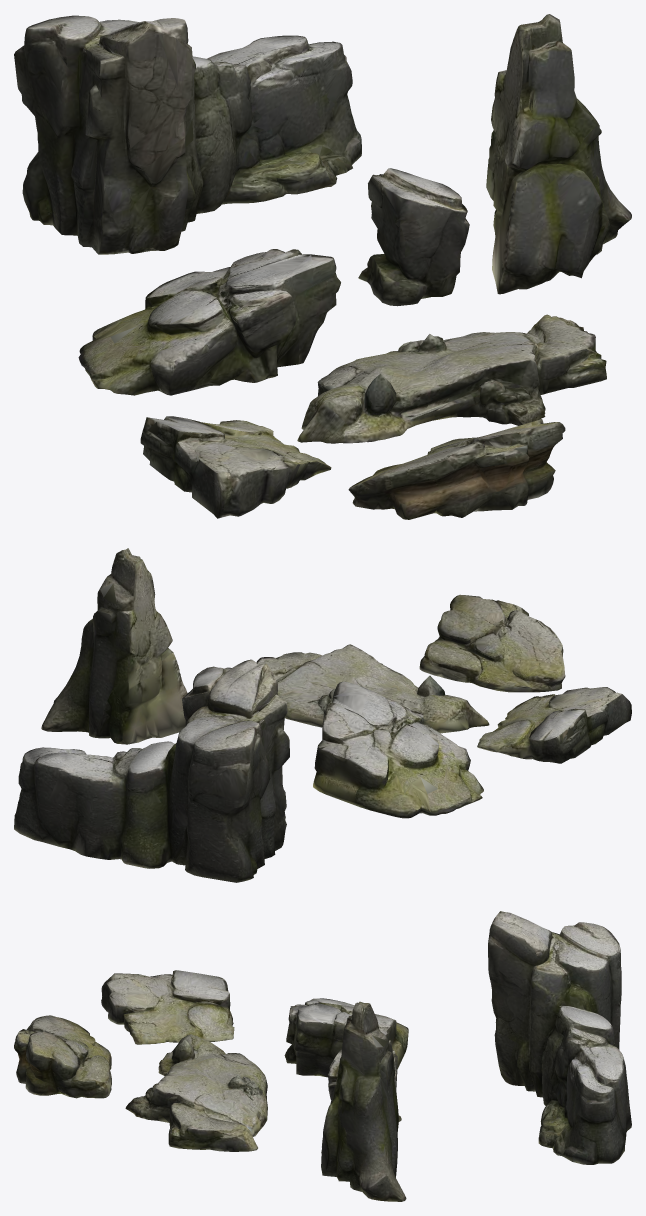
File: fab_prop_4.glb
The picture shows the model from 3 angles, top to bottom: view 1: azimuth 30°, elevation 25°; view 2: azimuth 150°, elevation 25°; view 3: azimuth 270°, elevation 25°; orthographic projection. The views are drawn at different scales.
Visible parts, largest first — view 1: mesh_4; view 2: mesh_4; view 3: mesh_4.
Boxes of the visible parts, x1=… form: mesh_4: x1=14, y1=14, x2=631, y2=519; mesh_4: x1=14, y1=548, x2=631, y2=882; mesh_4: x1=14, y1=911, x2=631, y2=1201.
Size of the model in its own units: 0.8545 by 0.3314 by 1.09.
1 material, 1 textured.
